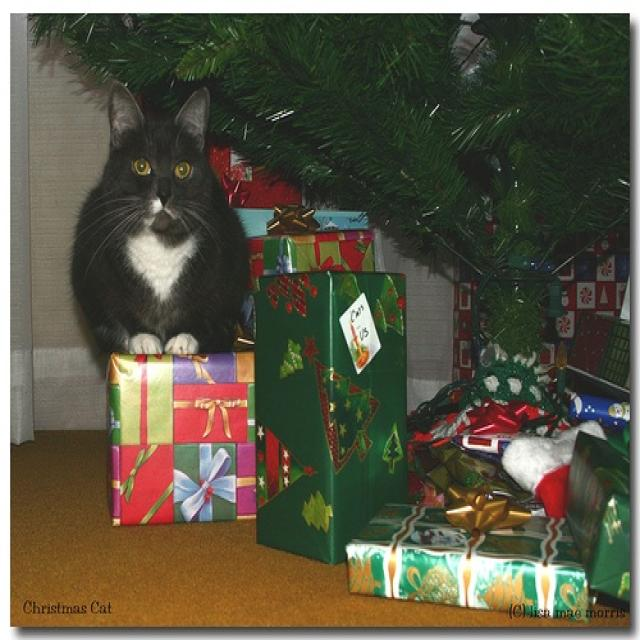cat: (68, 81, 250, 354)
